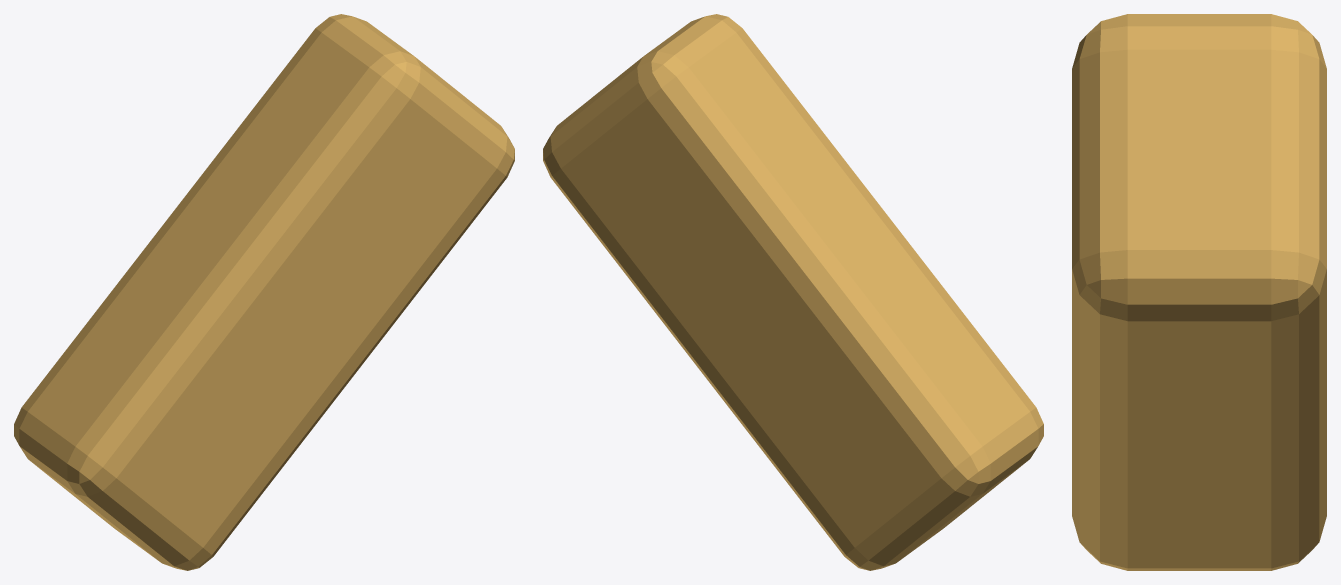
The model's file is SM_HC_BeatHalo_35.fbx.
3 renders of one model, left to right at view 1: azimuth 30°, elevation 25°; view 2: azimuth 150°, elevation 25°; view 3: azimuth 270°, elevation 25°, orthographic. The views are drawn at different scales.
Visible parts, largest first — view 1: SM_HC_BeatHalo_35; view 2: SM_HC_BeatHalo_35; view 3: SM_HC_BeatHalo_35.
Part boxes in pixels (x1,y1,x2,y2): SM_HC_BeatHalo_35: (14, 14, 514, 570); SM_HC_BeatHalo_35: (543, 14, 1043, 570); SM_HC_BeatHalo_35: (1072, 14, 1326, 570).
Bounding box in the file's own units: 166 × 55 × 166.
